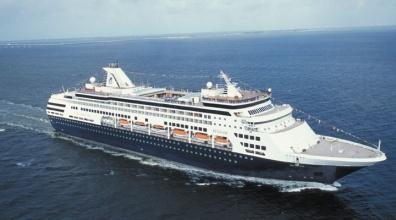youlun: (44, 61, 387, 183)
